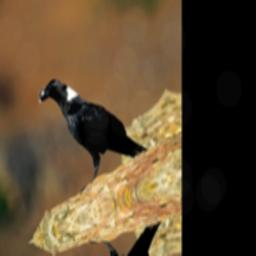Crow: (35, 43, 151, 204)
